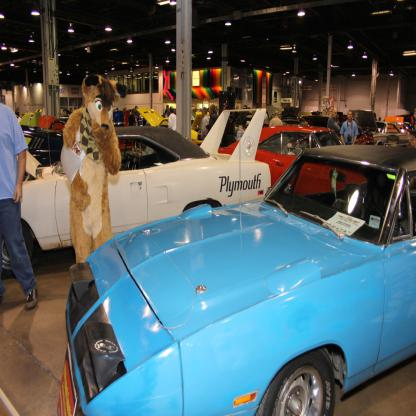Car: (0, 104, 416, 279)
